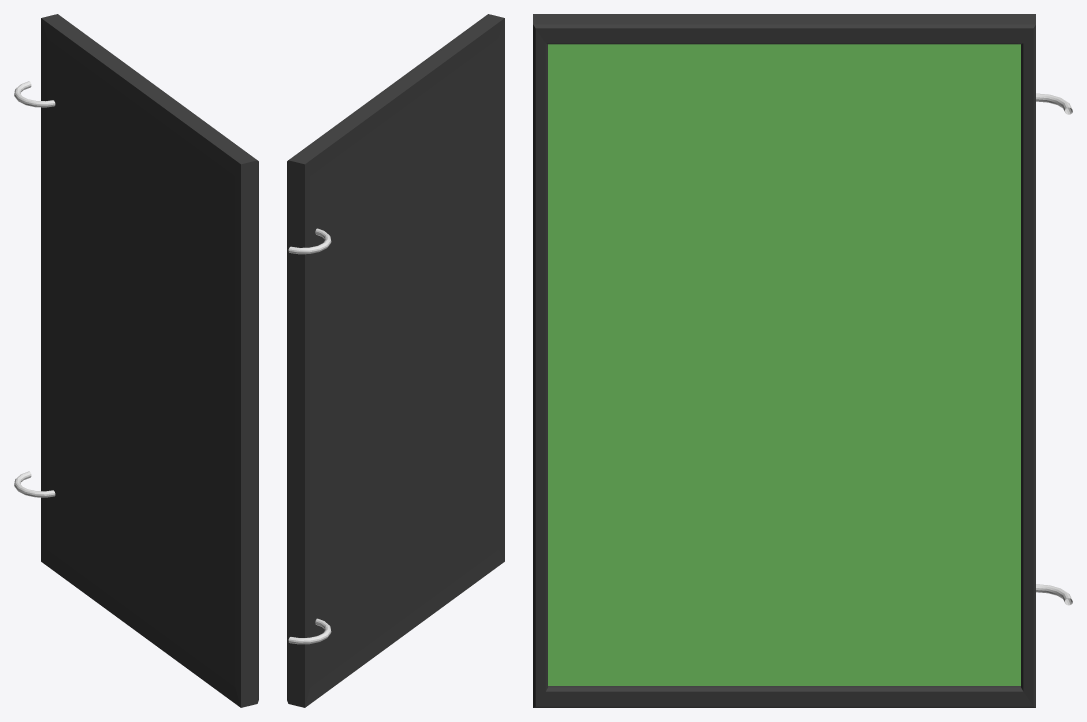
File: poster_New.fbx
The picture shows the model from 3 angles, left to right: view 1: azimuth 30°, elevation 25°; view 2: azimuth 150°, elevation 25°; view 3: azimuth 270°, elevation 25°; orthographic projection. The views are drawn at different scales.
Visible parts, largest first — view 1: poster.001, pTorus1; view 2: poster.001, pTorus1; view 3: poster.001.
Boxes of the visible parts, box(x1,y1,x2,y2) form: poster.001: box(41, 14, 258, 707); pTorus1: box(14, 81, 55, 497); poster.001: box(287, 14, 504, 707); pTorus1: box(288, 228, 331, 644); poster.001: box(533, 14, 1035, 707).
Size of the model in its own units: 7.85 by 97.23 by 69.56.
